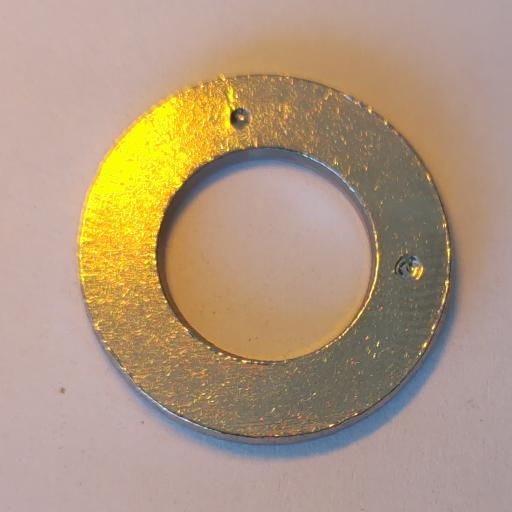circular_cavity: (394, 254, 423, 281), (229, 107, 250, 129)
